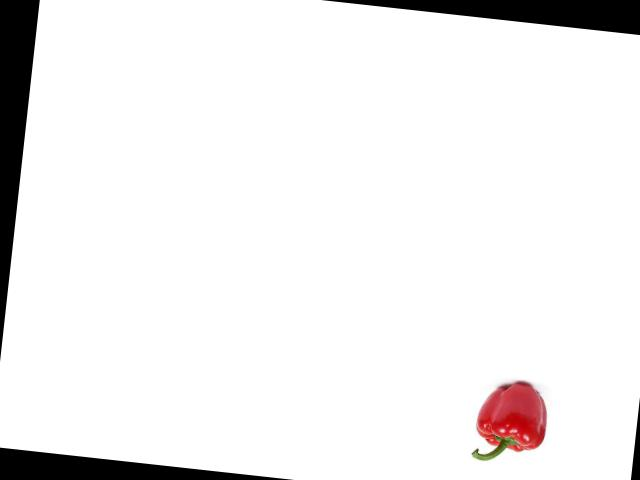bell_pepper: (467, 376, 556, 468)
